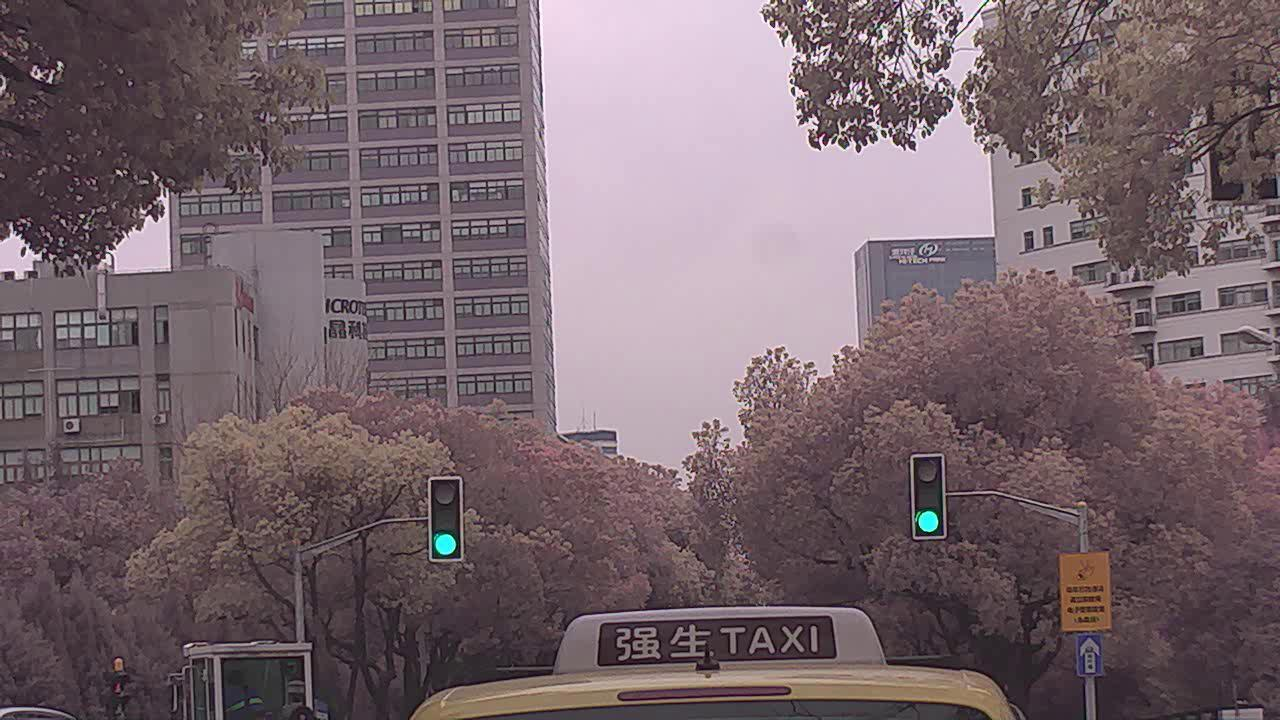traffic_light: (424, 479, 464, 568), (916, 456, 945, 541)
